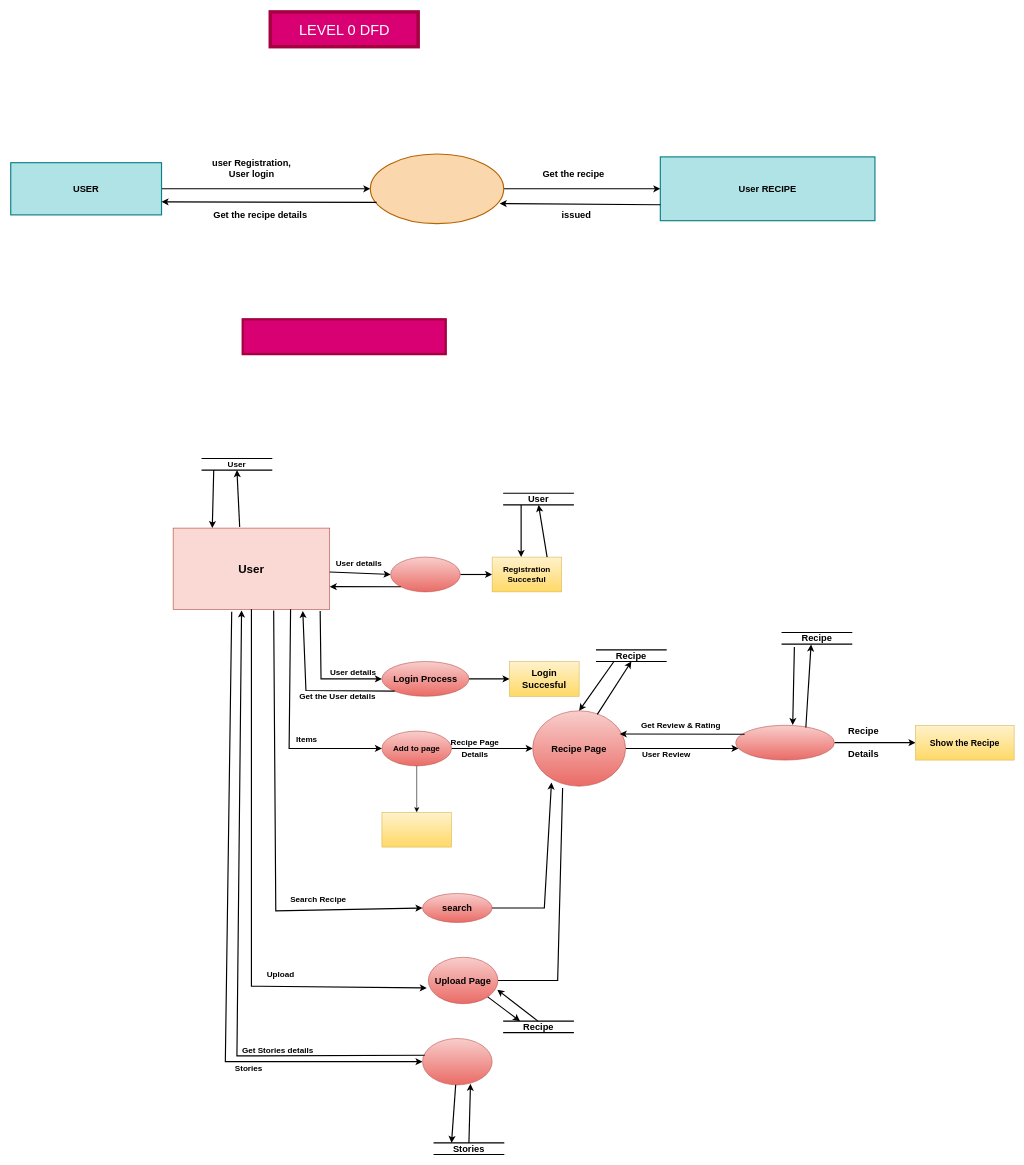
This 1024x1165 diagram has some shape labels left out. Here are the shapes that lost their labels. From the top down, the box of each, then its label:
(369, 153, 504, 224): NEFR
(241, 318, 447, 355): LEVEL 1 DFD
(390, 557, 460, 592): Registration Process
(735, 725, 834, 760): Review and Rating
(381, 812, 452, 847): Recipe Details
(422, 1038, 492, 1085): User Stories
